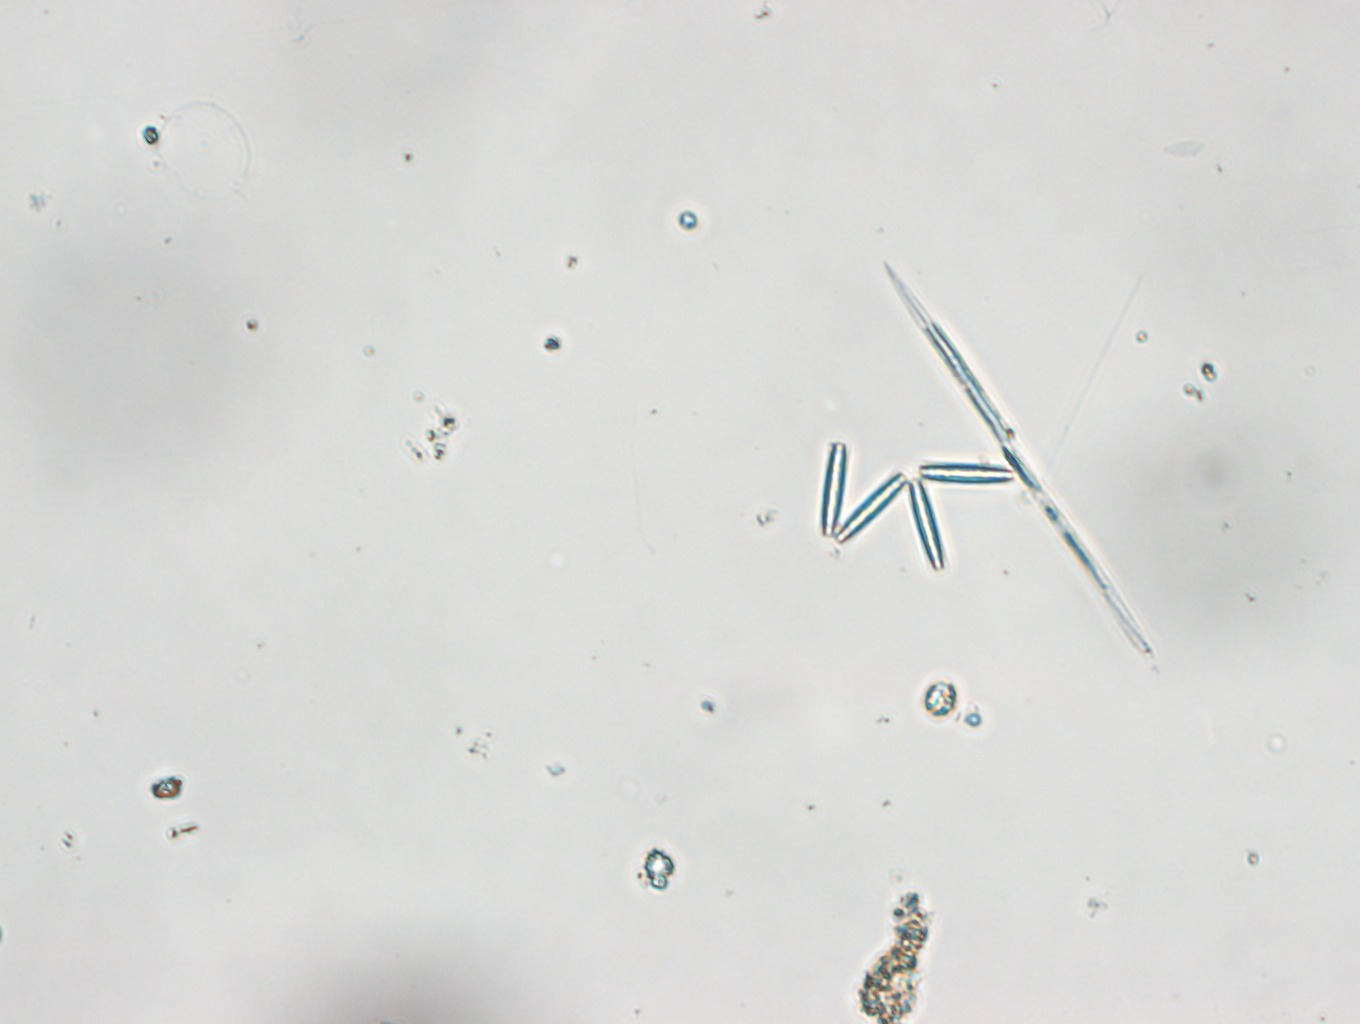thalassionema nitzschioides: (801, 443, 1017, 574)
